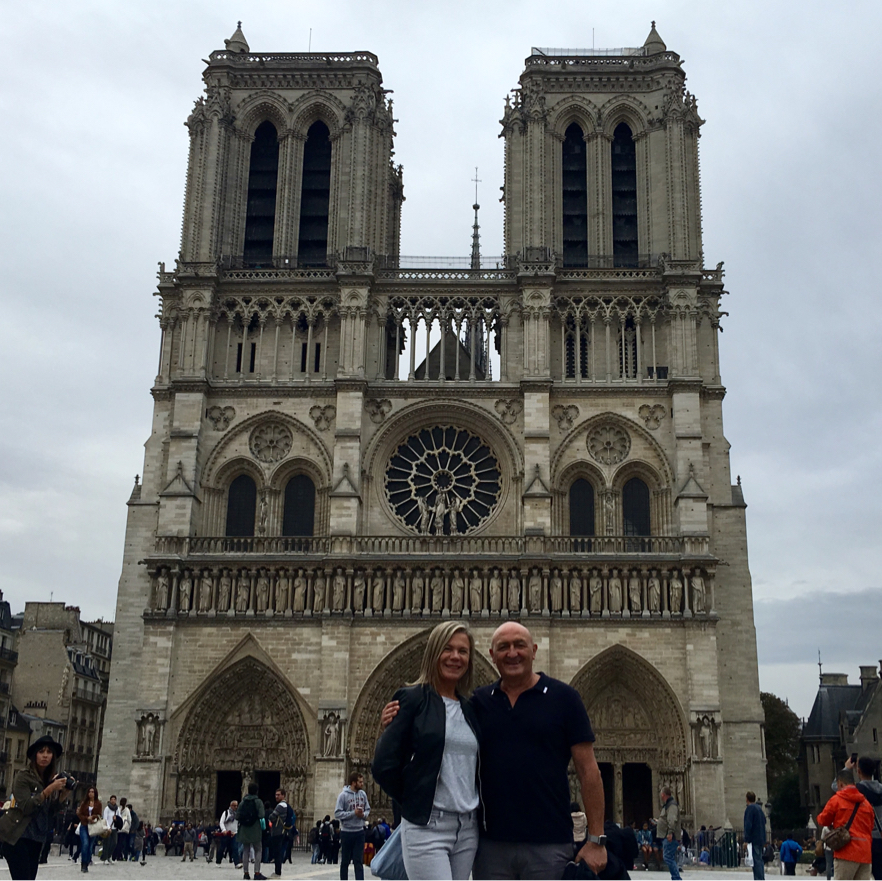arco-apuntado: (176, 651, 311, 754), (567, 639, 689, 728), (202, 409, 331, 486), (550, 409, 673, 489), (237, 101, 287, 139), (291, 99, 343, 135), (599, 101, 645, 138), (554, 102, 594, 137)
